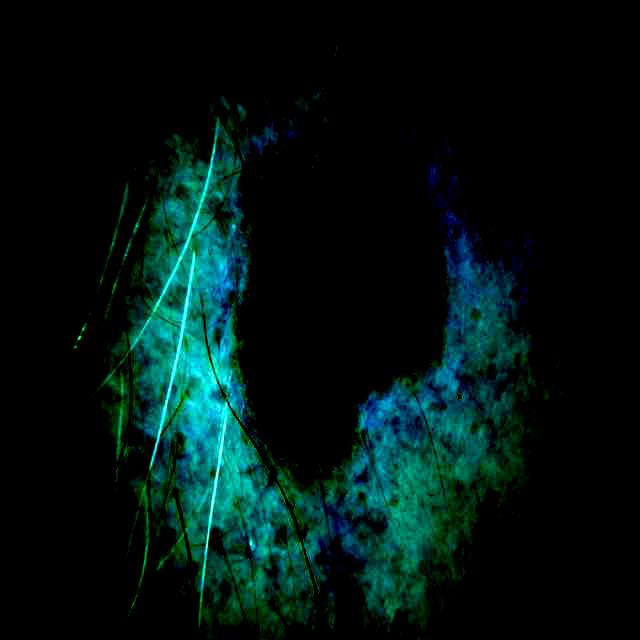BKL: (247, 141, 443, 459)
